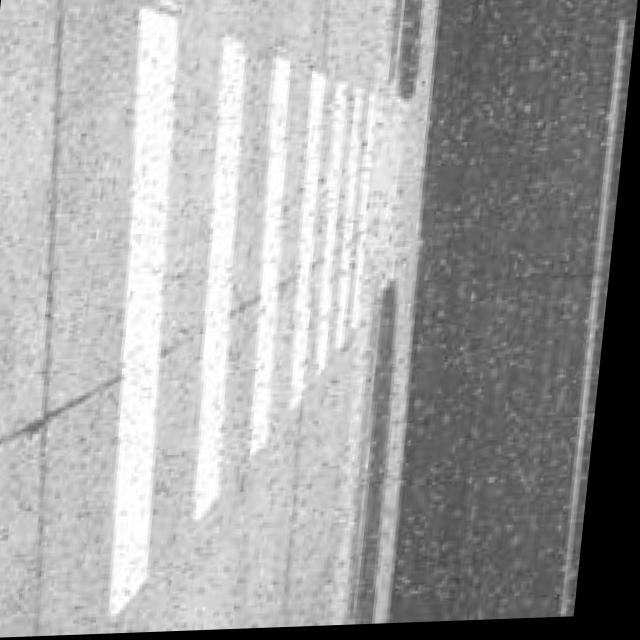zebra: (83, 0, 410, 635)
